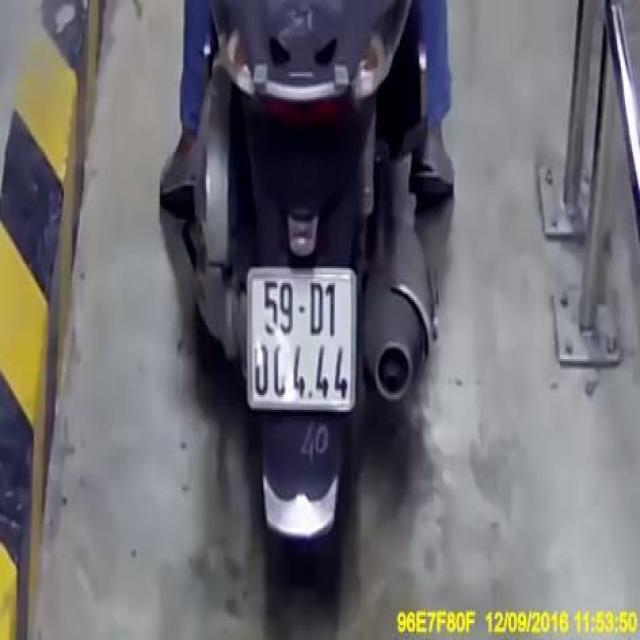bien_so: (247, 262, 358, 412)
